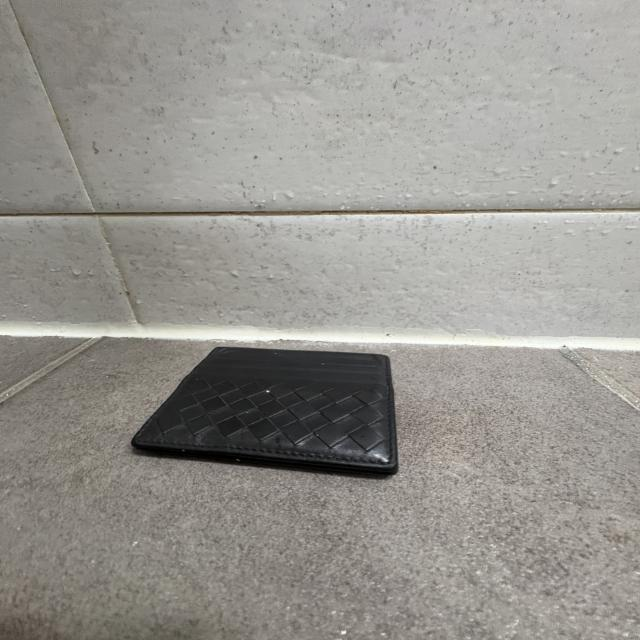wallet: (131, 348, 399, 484)
